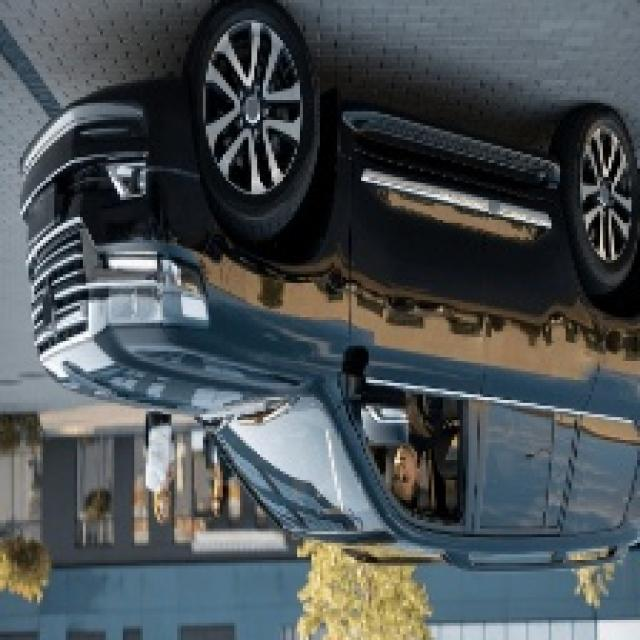car: (19, 91, 627, 598)
